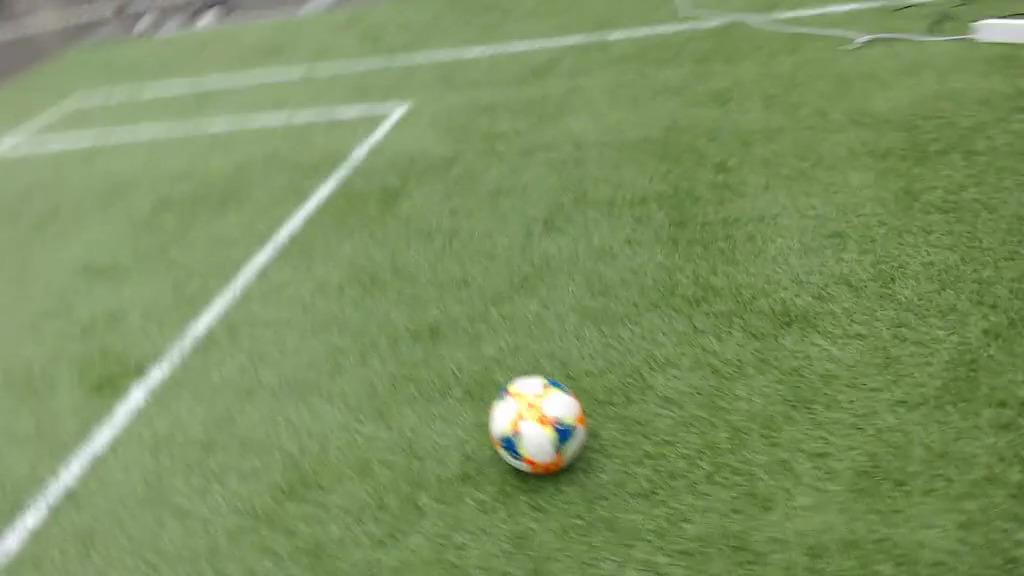ball: (488, 376, 584, 475)
